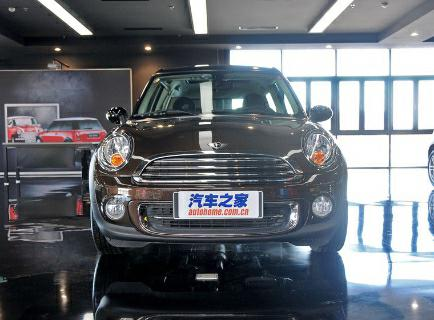MINI CLUBMAN: (86, 64, 348, 274)
